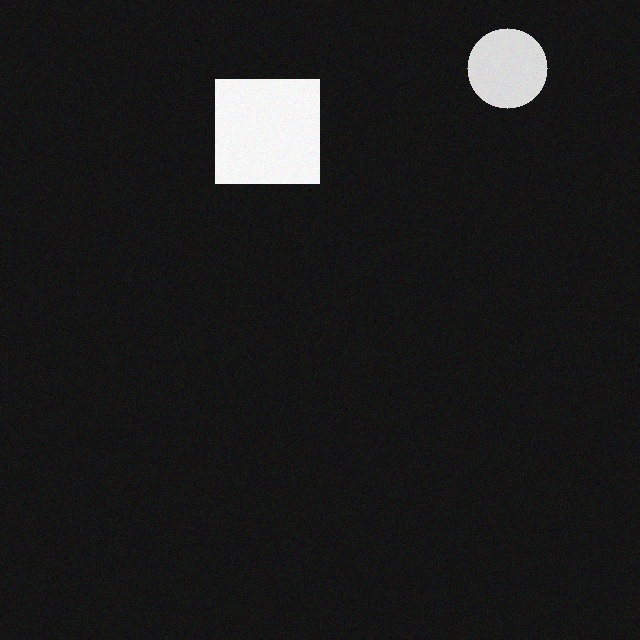circle: (481, 19, 561, 99)
square: (229, 70, 333, 174)
